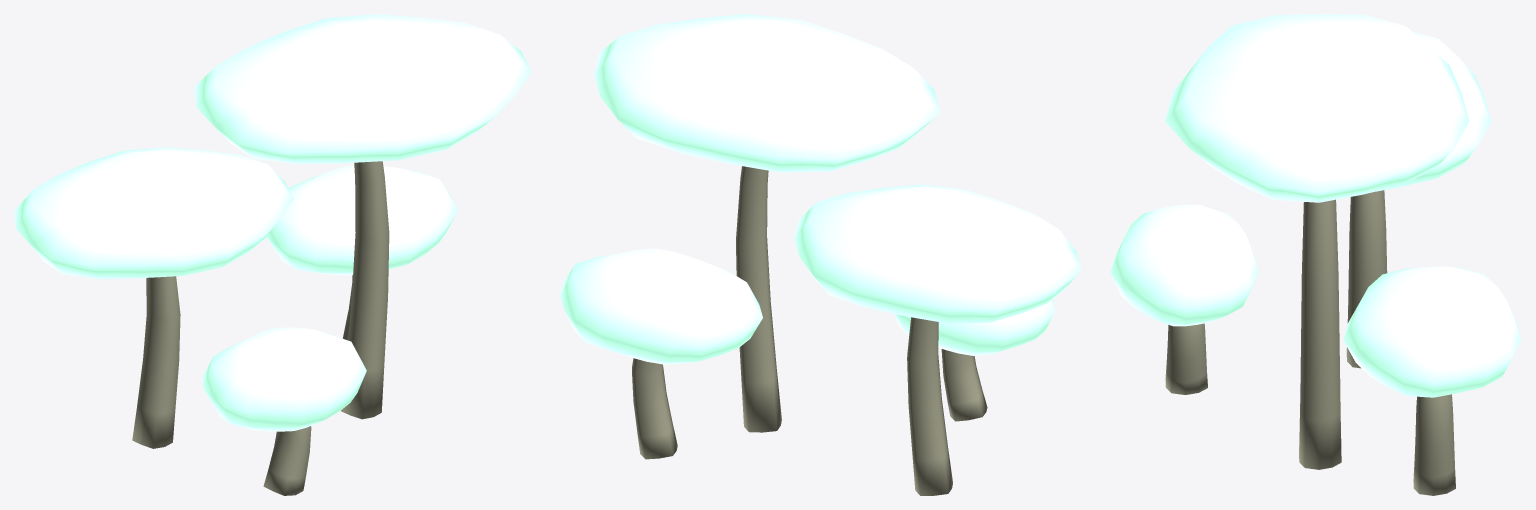
The model's file is SM_RB_GlowMushrooms.fbx.
3 views of the same model, side by side, from view 1: azimuth 30°, elevation 25°; view 2: azimuth 150°, elevation 25°; view 3: azimuth 270°, elevation 25° (orthographic). The views are drawn at different scales.
Parts seen in each view (by area): view 1: SM_RB_GlowMushrooms; view 2: SM_RB_GlowMushrooms; view 3: SM_RB_GlowMushrooms.
Boxes of the visible parts, x1,y1,x2,y2 form: SM_RB_GlowMushrooms: (14,14,531,495); SM_RB_GlowMushrooms: (560,14,1081,495); SM_RB_GlowMushrooms: (1110,14,1521,495).
Size of the model in its own units: 1.25 by 0.8621 by 0.93.
